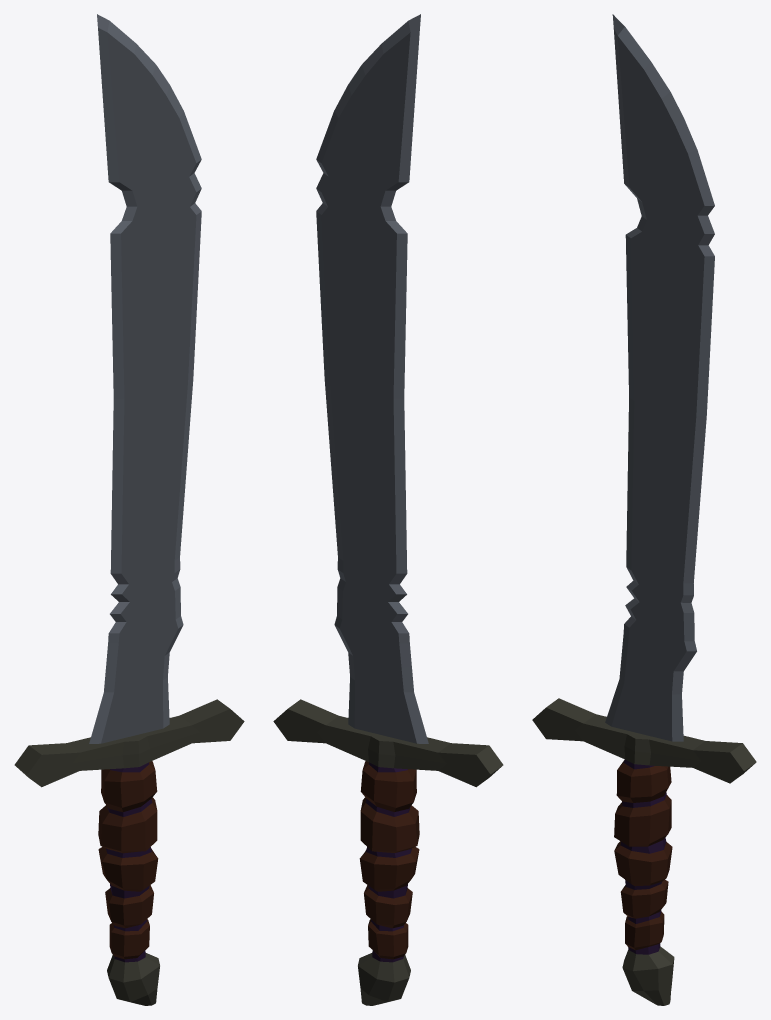
File: Sword_2.glb
3 views of the same model, side by side, from view 1: azimuth 30°, elevation 25°; view 2: azimuth 150°, elevation 25°; view 3: azimuth 330°, elevation 25° (orthographic). The views are drawn at different scales.
Parts seen in each view (by area): view 1: Sword_2; view 2: Sword_2; view 3: Sword_2.
Part boxes in pixels (left/top/right/bottom): Sword_2: left=14, top=14, right=244, bottom=1005; Sword_2: left=273, top=14, right=503, bottom=1005; Sword_2: left=532, top=14, right=756, bottom=1005.
Bounding box in the file's own units: 0.1363 × 0.6 × 0.0347.
